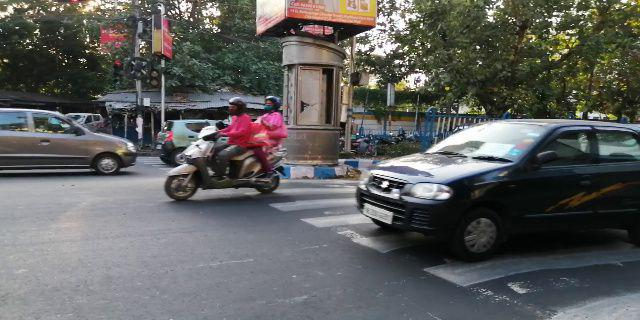Car: (352, 113, 640, 257), (1, 107, 136, 175)
Motorbike: (160, 92, 284, 203)
